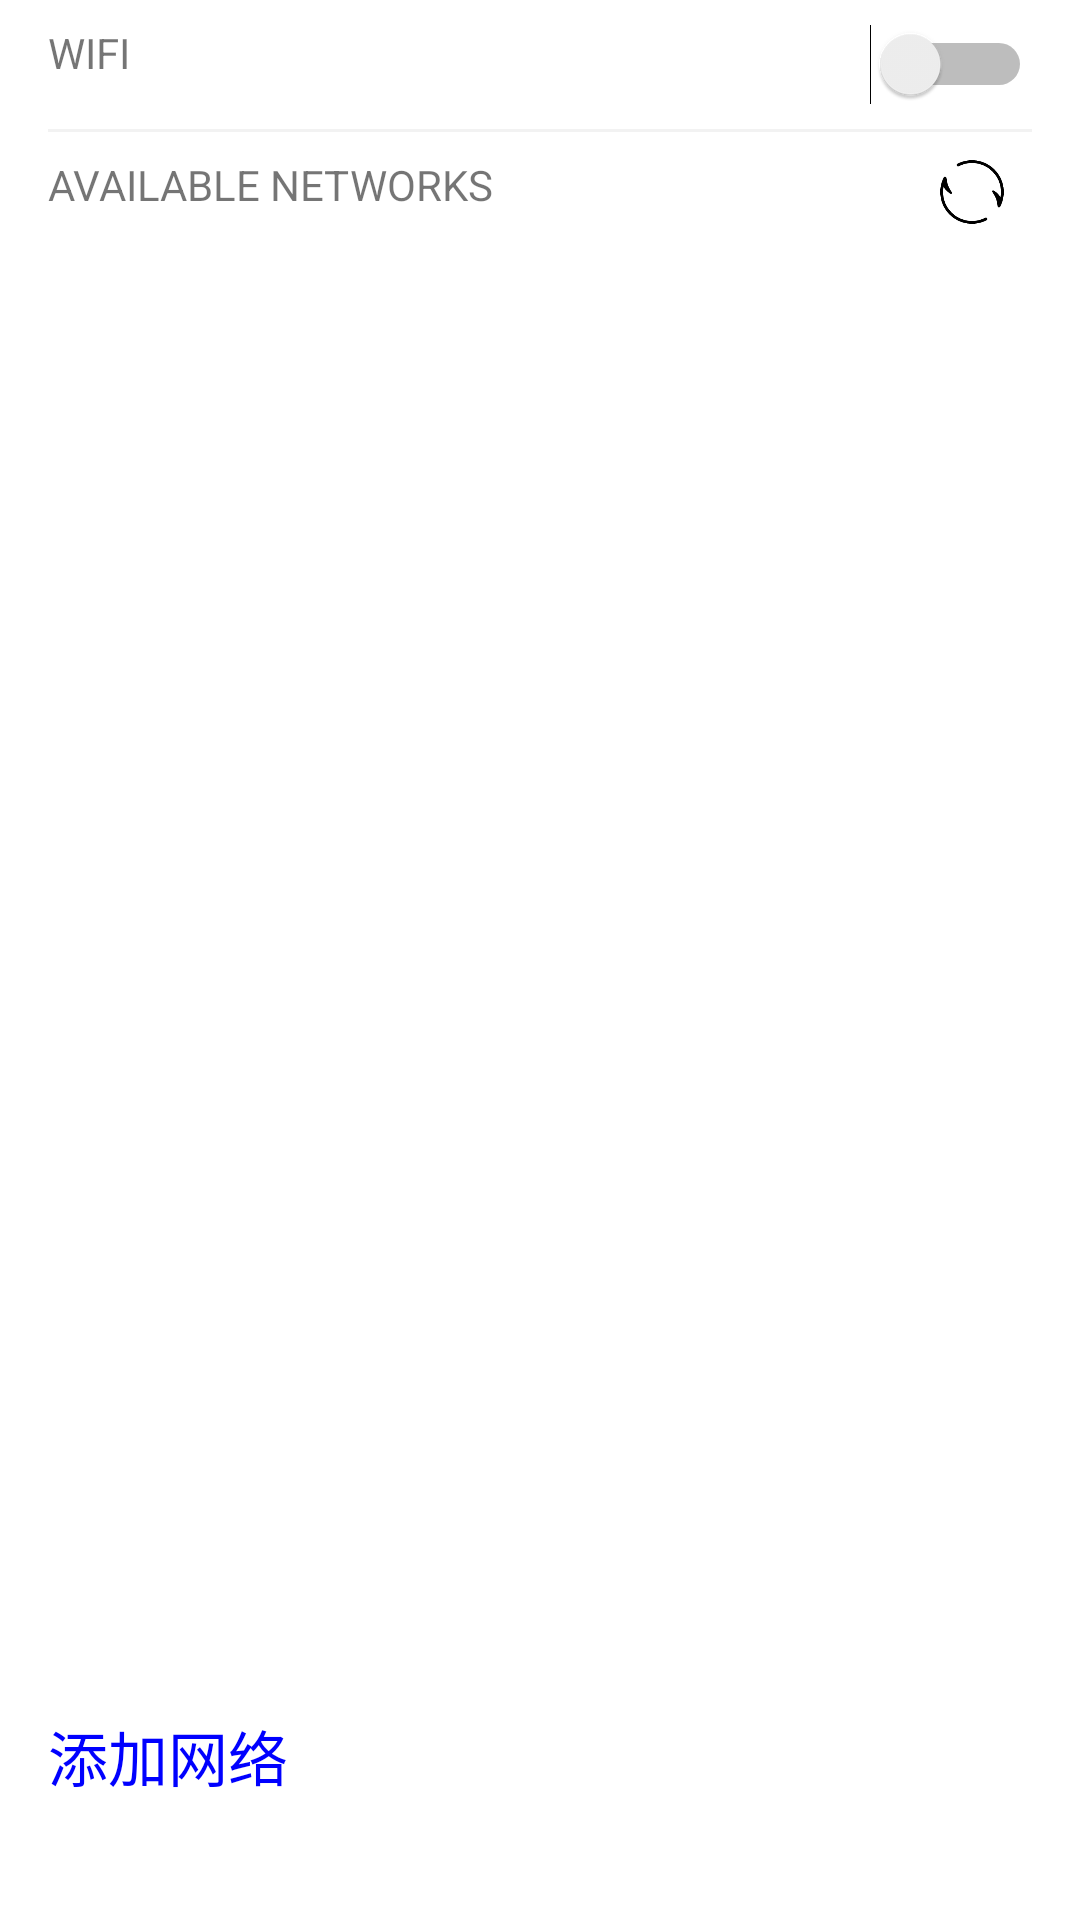

Icon click points for this 1080 x 1920 phone screenshot, format [x,y]:
refresh: [972,192]
